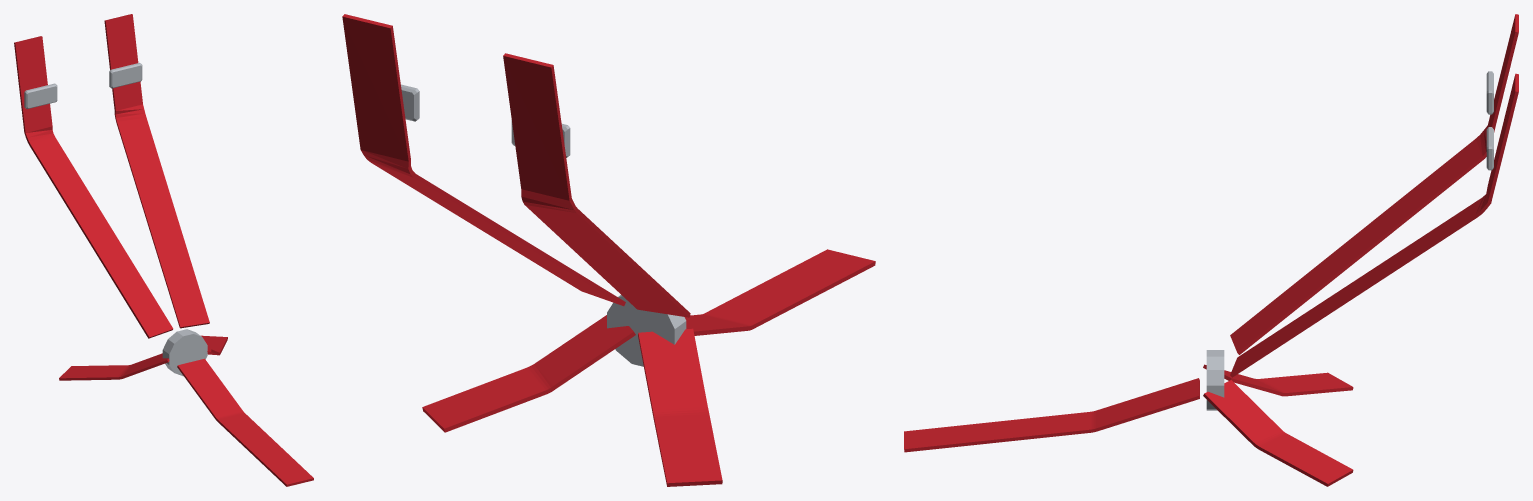
File: race_harness.glb
3 views of the same model, side by side, from view 1: azimuth 30°, elevation 25°; view 2: azimuth 150°, elevation 25°; view 3: azimuth 270°, elevation 25° (orthographic). The views are drawn at different scales.
Visible parts, largest first — view 1: model; view 2: model; view 3: model.
Part boxes in pixels (<box>): model: <box>14,14,313,486</box>; model: <box>342,14,875,486</box>; model: <box>904,14,1518,486</box>.
Size of the model in its own units: 0.2989 by 0.4893 by 0.6977.
1 material, 1 textured.
